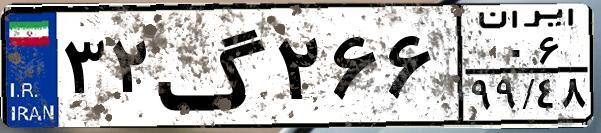0: (508, 27, 537, 80)
2: (270, 28, 330, 110), (110, 28, 156, 98)
3: (57, 26, 110, 100)
4: (535, 70, 560, 125)
6: (385, 28, 445, 110), (330, 28, 385, 110), (537, 27, 568, 80)
8: (560, 70, 590, 125)
9: (470, 70, 495, 125), (495, 70, 520, 125)
گ: (156, 12, 270, 120)
